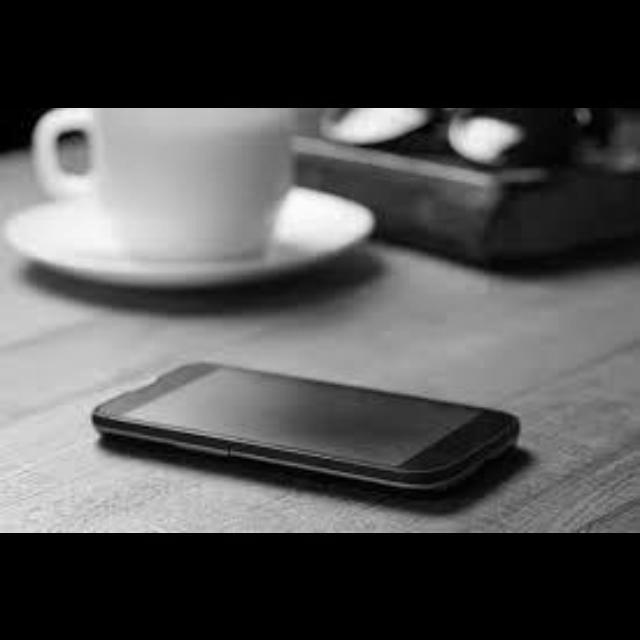fake: (91, 363, 542, 508)
